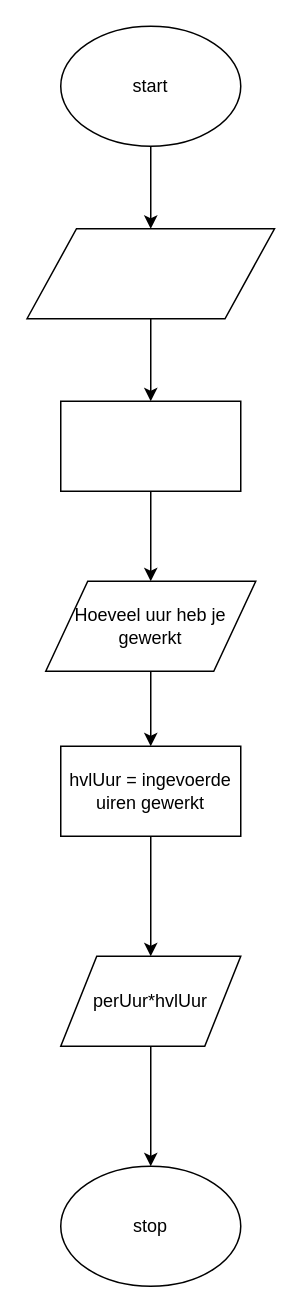
The diagram is 300 pixels wide and 1313 high, and some of its shapes have lost their labels. The shapes that lost their labels are listed below. From the top down, each one's centre as x and y in pixels, then its label:
the point at 150,273: wat verdien je per uur
the point at 150,445: perUur = per uur verdienen
